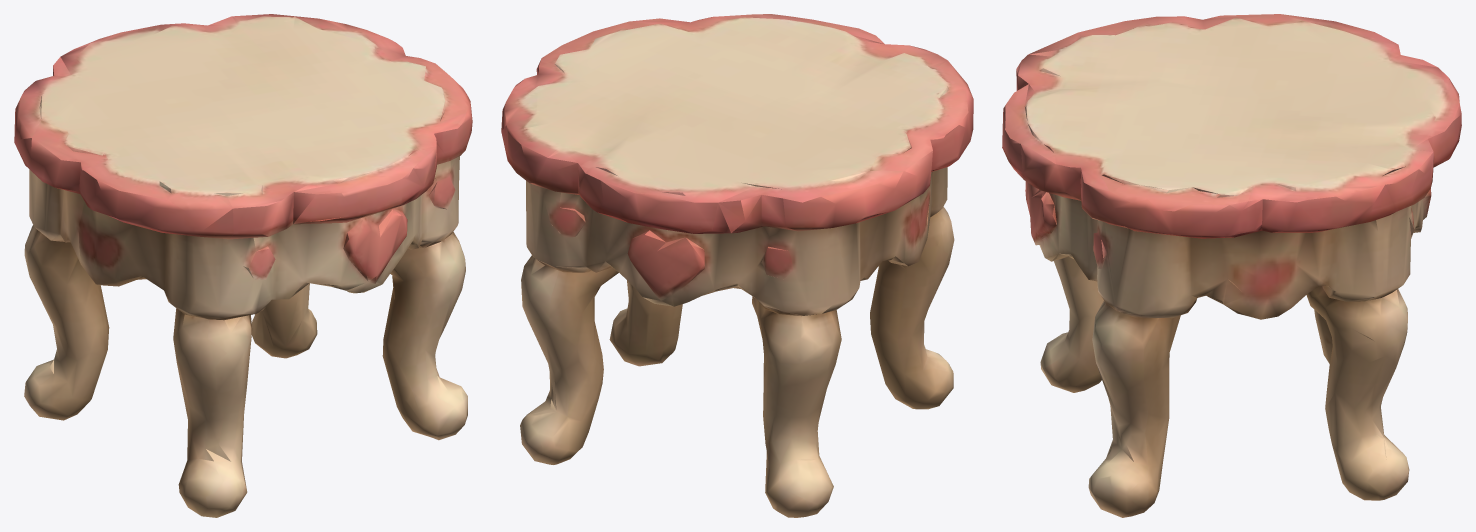
The model's file is table06.glb.
3 views of the same model, side by side, from view 1: azimuth 30°, elevation 25°; view 2: azimuth 150°, elevation 25°; view 3: azimuth 270°, elevation 25° (orthographic). The views are drawn at different scales.
Size of the model in its own units: 0.2031 by 0.1634 by 0.2008.
Materials: 1 (1 with a texture image).
